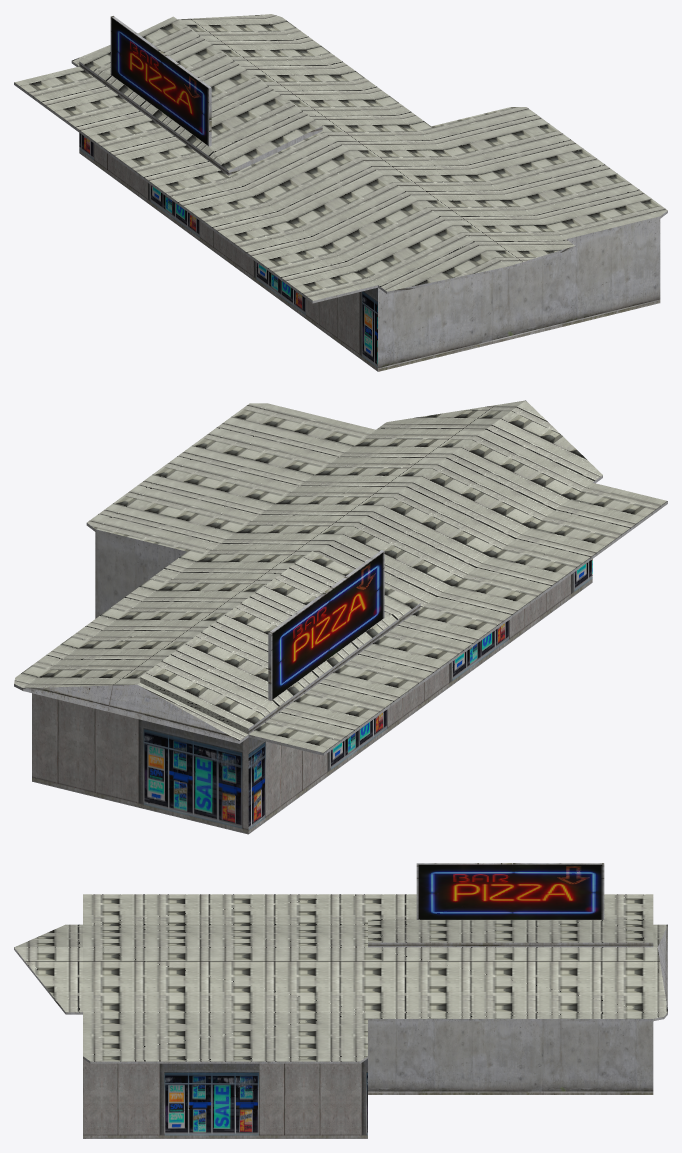
Rendered from store.FBX.
The picture shows the model from 3 angles, top to bottom: view 1: azimuth 30°, elevation 25°; view 2: azimuth 150°, elevation 25°; view 3: azimuth 270°, elevation 25°; orthographic projection. The views are drawn at different scales.
Visible parts, largest first — view 1: Box001; view 2: Box001; view 3: Box001.
Part boxes in pixels (<box>): Box001: <box>14,14,667,371</box>; Box001: <box>14,400,667,834</box>; Box001: <box>14,863,667,1138</box>.
Bounding box in the file's own units: 7.64 × 3.13 × 12.61.
